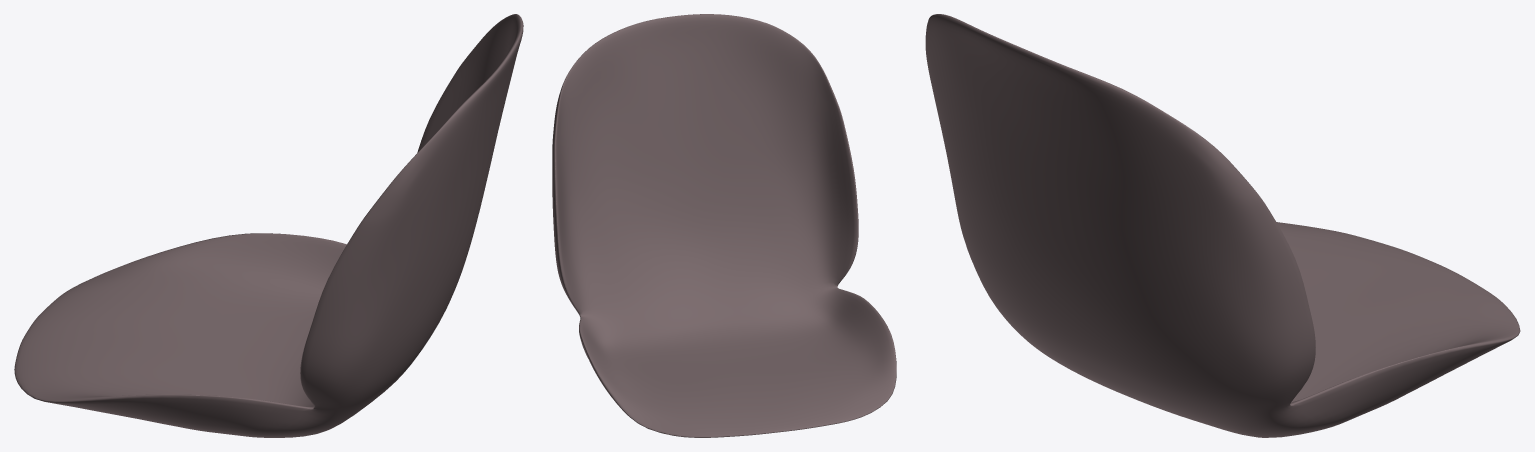
The model's file is tablechair_0203_seat.glb.
The picture shows the model from 3 angles, left to right: view 1: azimuth 30°, elevation 25°; view 2: azimuth 150°, elevation 25°; view 3: azimuth 270°, elevation 25°; orthographic projection. The views are drawn at different scales.
Parts seen in each view (by area): view 1: tablechair_0203_seat; view 2: tablechair_0203_seat; view 3: tablechair_0203_seat.
Boxes of the visible parts, x1,y1,x2,y2 form: tablechair_0203_seat: [14, 14, 523, 437]; tablechair_0203_seat: [552, 14, 896, 437]; tablechair_0203_seat: [925, 14, 1520, 437].
Bounding box in the file's own units: 0.552 × 0.4182 × 0.552.
Materials: 1 (1 with a texture image).
